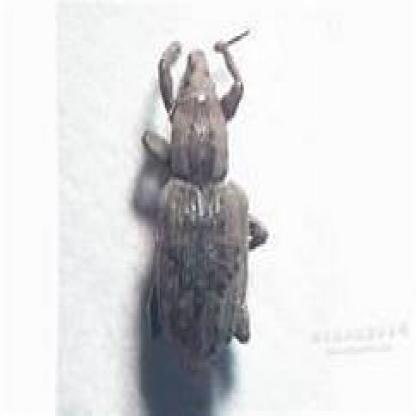rice-bug: (136, 32, 266, 358)
